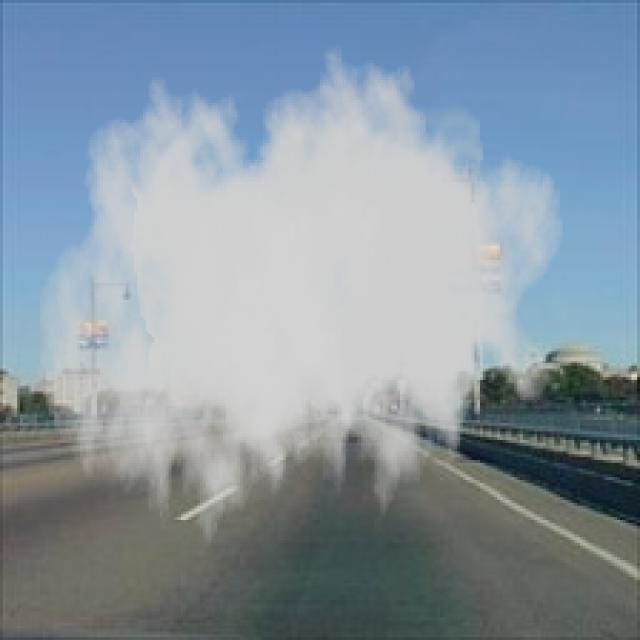Smoke: (37, 37, 566, 569)
